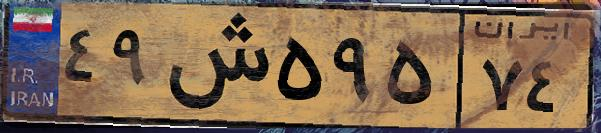4: (57, 26, 110, 100), (525, 38, 570, 115)
5: (270, 28, 330, 110), (385, 28, 445, 110)
7: (475, 38, 525, 113)
9: (330, 28, 385, 110), (110, 28, 158, 98)
ش: (158, 12, 270, 120)
